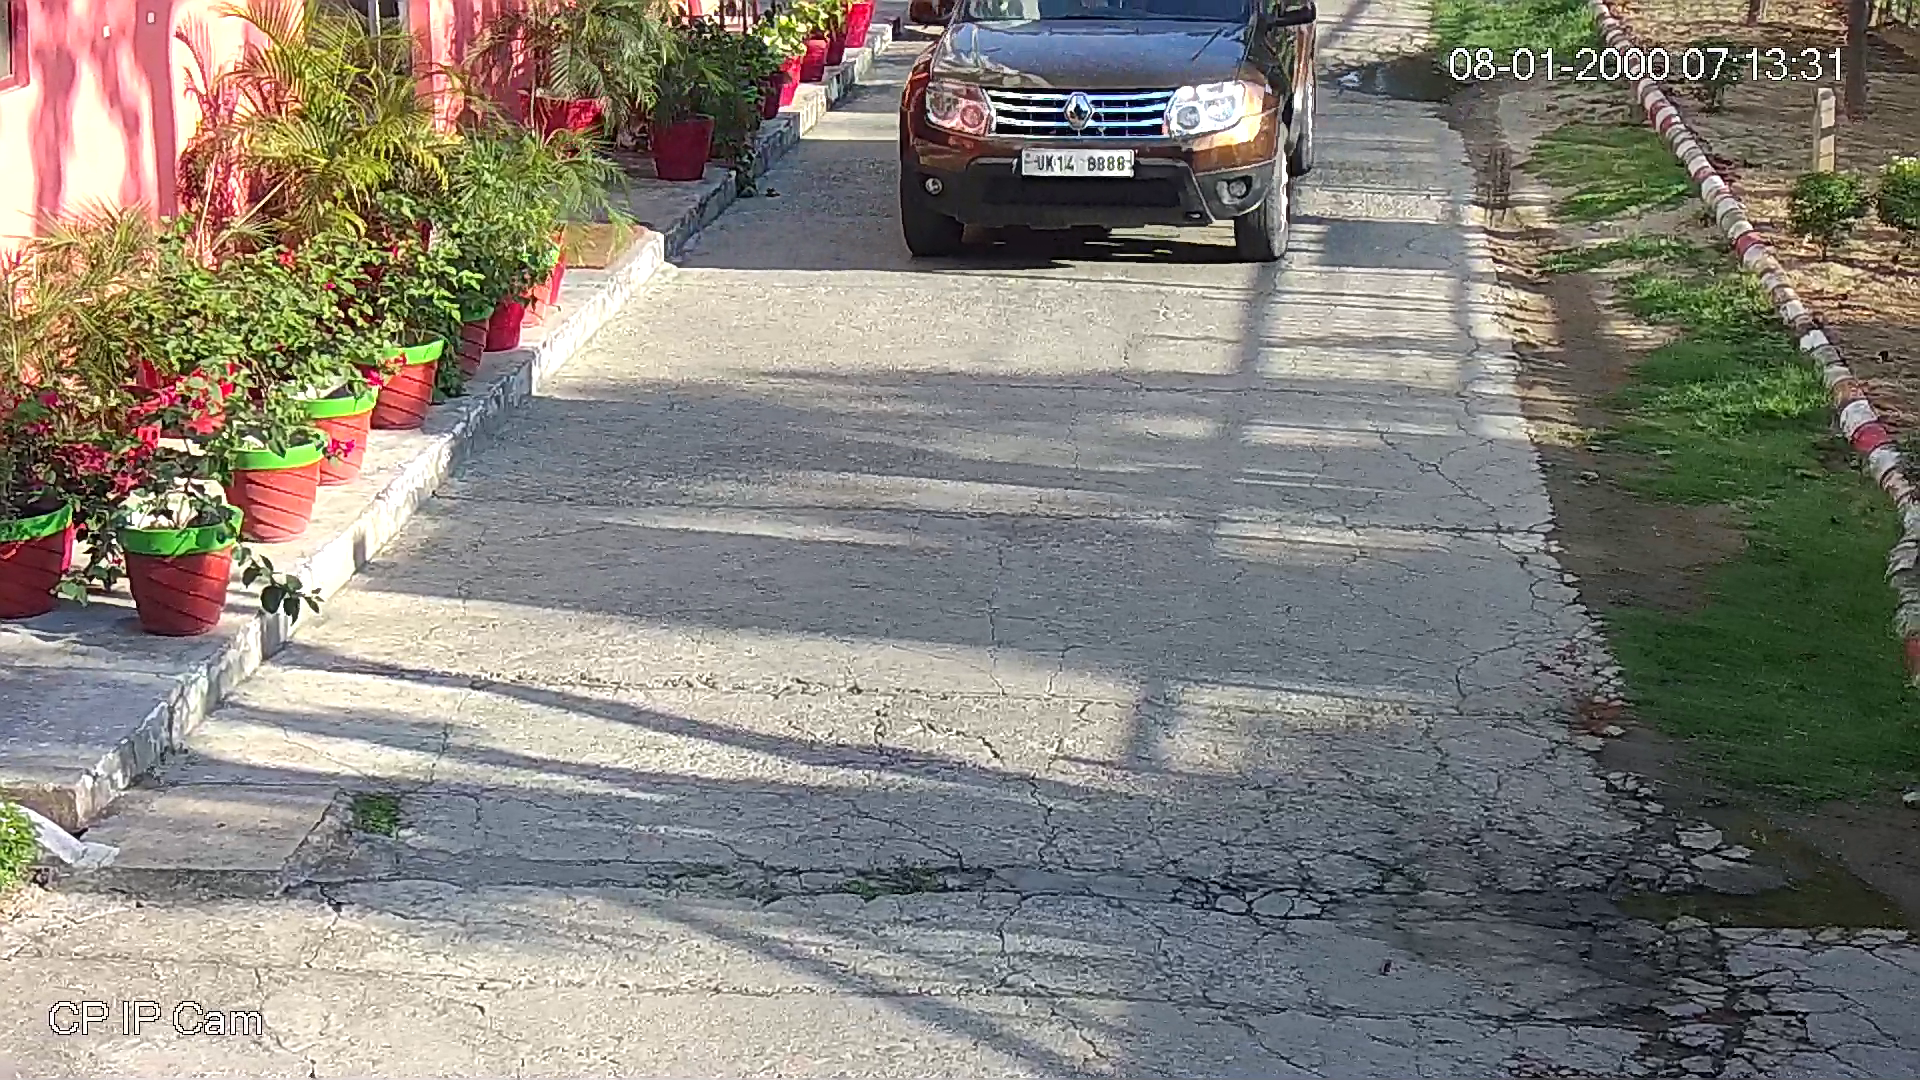plate: (1018, 142, 1141, 178)
